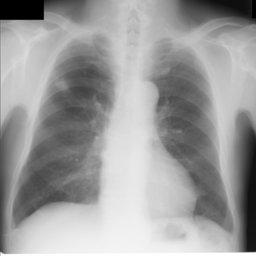left lobe: (152, 39, 233, 230)
right lobe: (13, 35, 114, 224)
